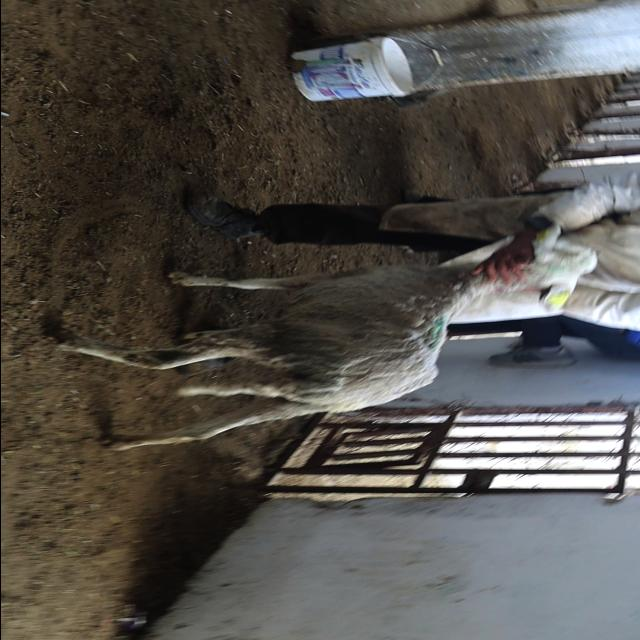Score_1: (58, 226, 596, 450)
